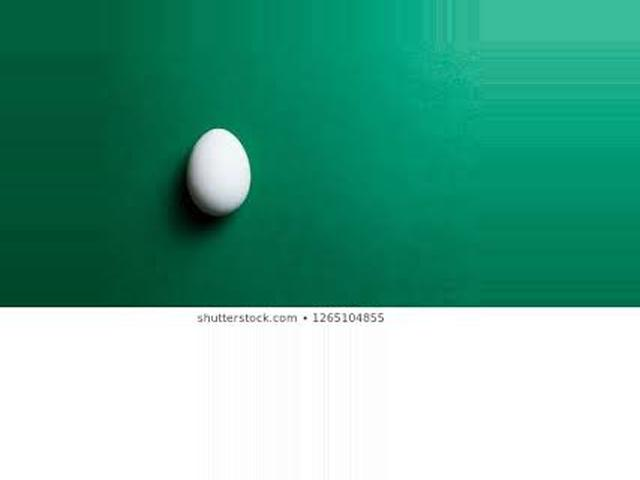egg: (189, 129, 253, 216)
